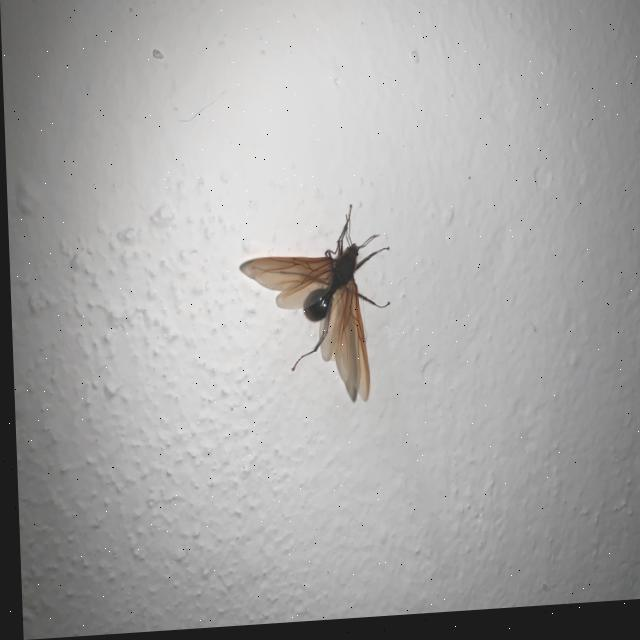Alive-Male-Alate: (244, 208, 392, 413)
